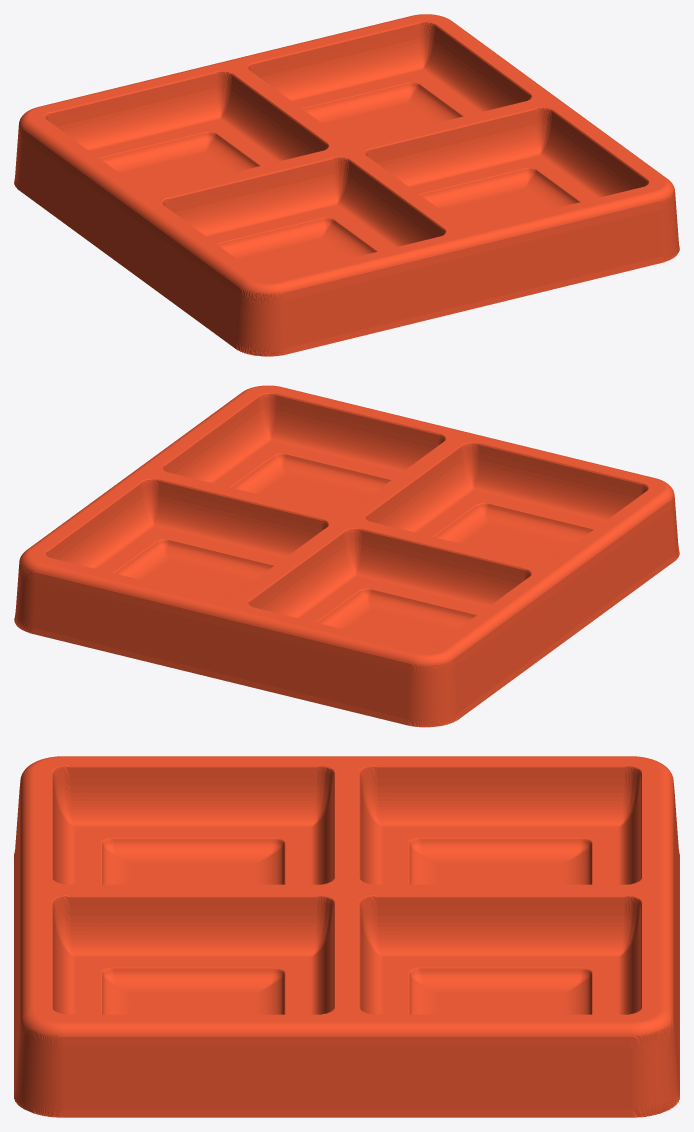
The model's file is mold.glb.
3 views of the same model, one above another, from view 1: azimuth 30°, elevation 25°; view 2: azimuth 150°, elevation 25°; view 3: azimuth 270°, elevation 25° (orthographic). The views are drawn at different scales.
Visible parts, largest first — view 1: geometry_0; view 2: geometry_0; view 3: geometry_0.
Boxes of the visible parts, bbox=[...] form: geometry_0: bbox=[14, 14, 679, 356]; geometry_0: bbox=[14, 385, 679, 727]; geometry_0: bbox=[14, 756, 679, 1117].
Size of the model in its own units: 0.1211 by 0.0175 by 0.1211.
